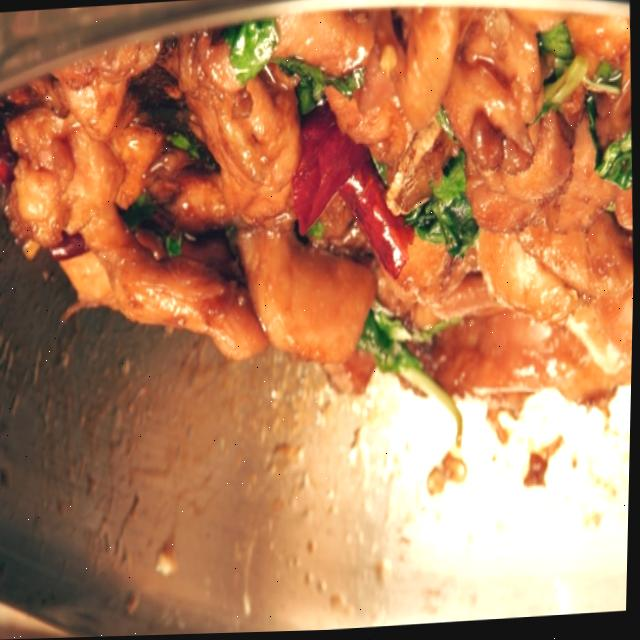鸡肉料理 含炸鸡: (0, 17, 639, 599)
